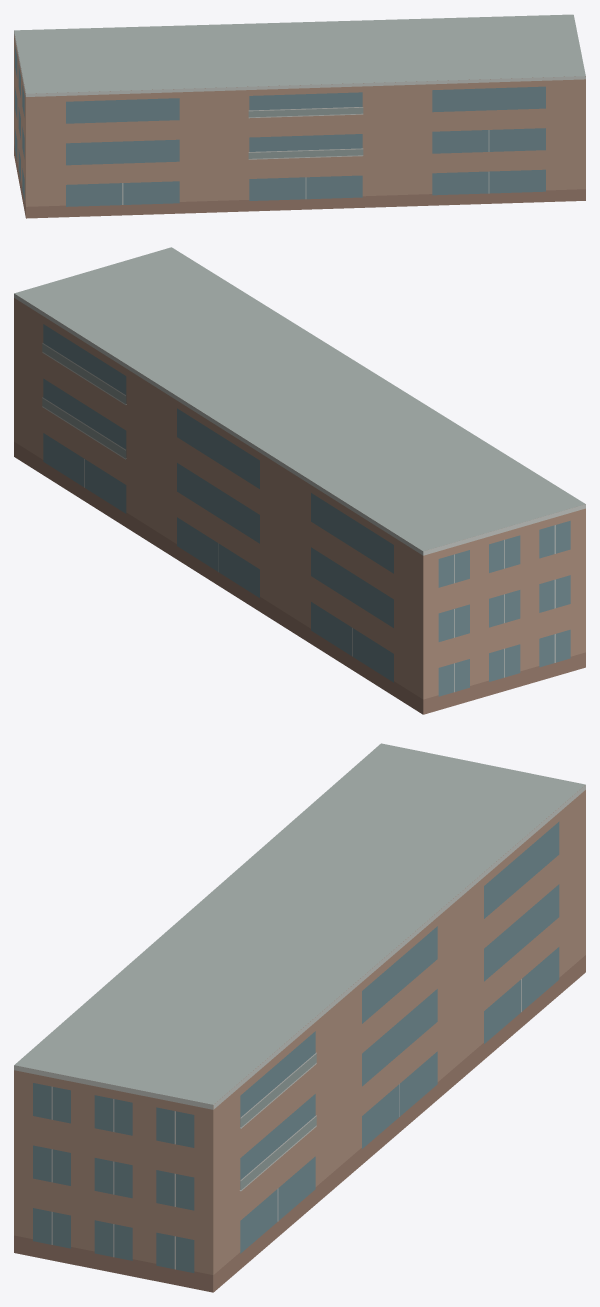
File: survey-upis-32636055.glb
3 renders of one model, top to bottom at view 1: azimuth 30°, elevation 25°; view 2: azimuth 150°, elevation 25°; view 3: azimuth 270°, elevation 25°, orthographic. The views are drawn at different scales.
Parts seen in each view (by area): view 1: survey-upis-32636055.tmp; view 2: survey-upis-32636055.tmp; view 3: survey-upis-32636055.tmp.
Part boxes in pixels (bbox=[...]): survey-upis-32636055.tmp: bbox=[14, 14, 585, 218]; survey-upis-32636055.tmp: bbox=[14, 247, 585, 714]; survey-upis-32636055.tmp: bbox=[14, 743, 585, 1292].
Bounding box in the file's own units: 37.8 × 9.15 × 25.27.
